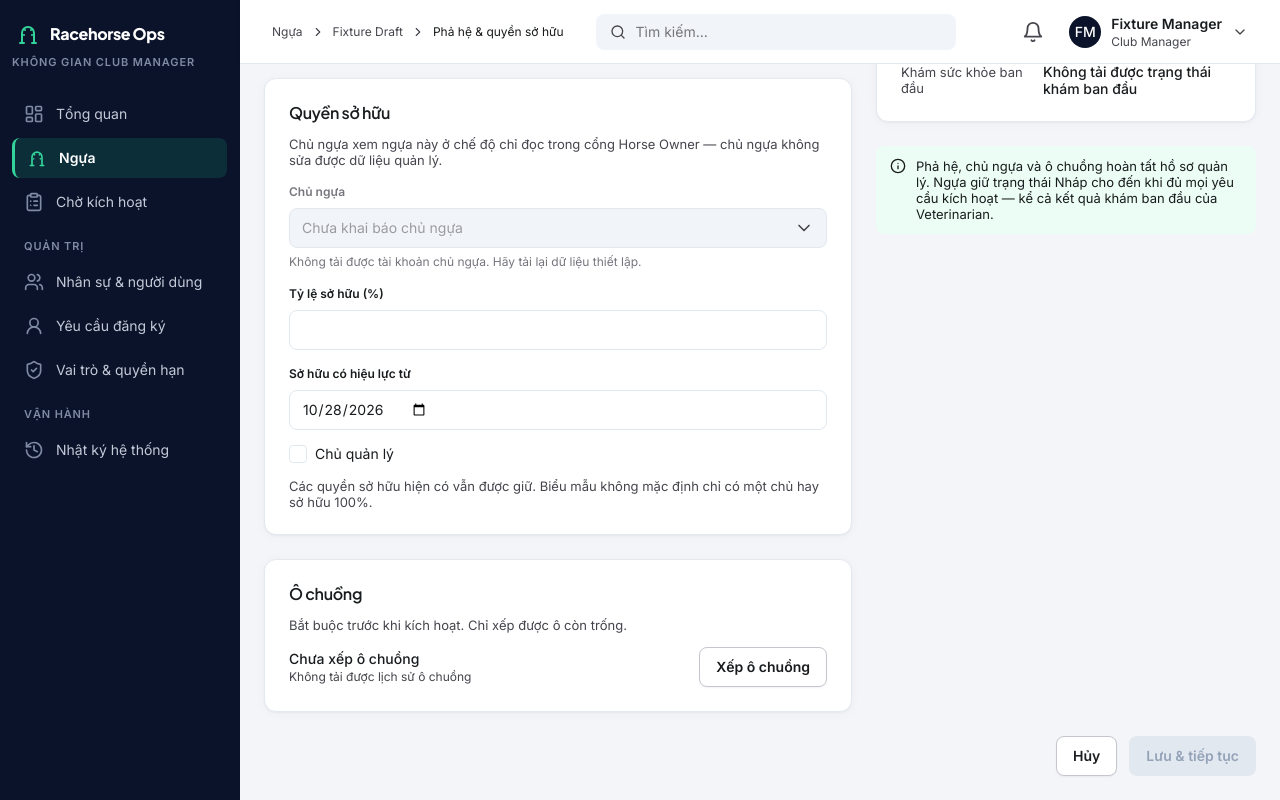
Test: shows FREE/OCCUPIED boxes without fabricating an assignment when its API is missing
(page scrolled)
Click the button "Xếp ô chuồng".
click(763, 667)  # box [699, 647, 827, 687]
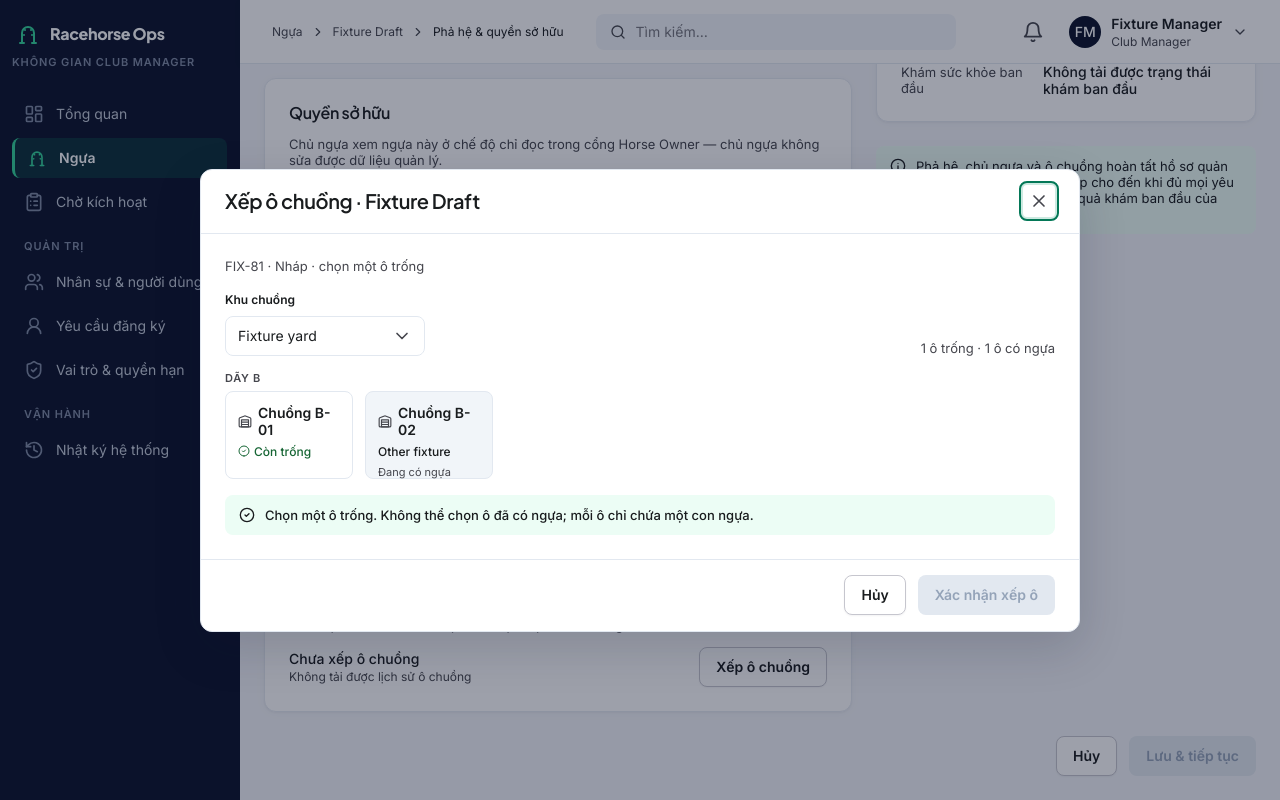
Now the text "Chuồng B-02" is shown, box [398, 404, 480, 438]
Now the text "Đang có ngựa" is shown, box [378, 464, 451, 478]
Click the button "Chuồng B-01 Còn trống".
click(289, 434)  # box [225, 390, 353, 478]
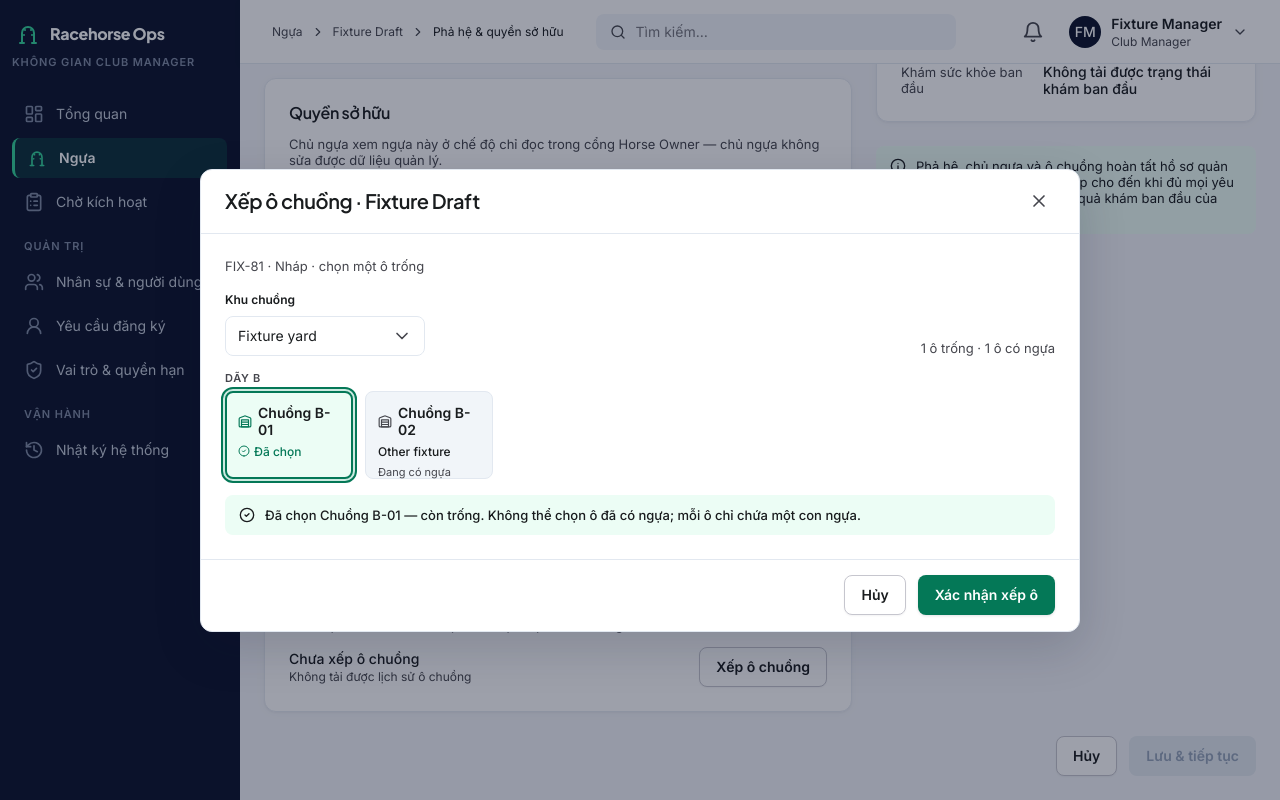
Click the button "Xác nhận xếp ô".
click(986, 595)  # box [918, 575, 1055, 615]
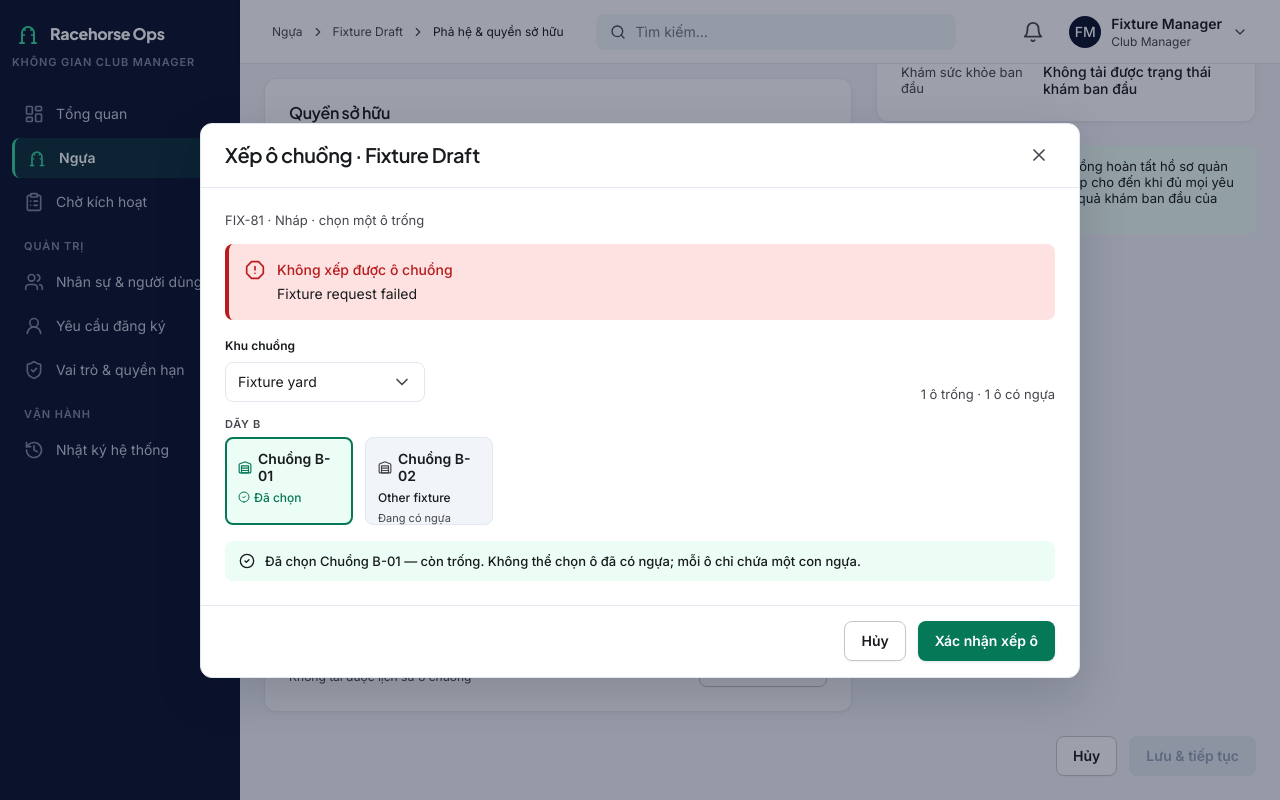
Now the dialog is shown, box [200, 122, 1080, 678]
Now the text "Không xếp được ô chuồng" is shown, box [277, 260, 453, 278]
